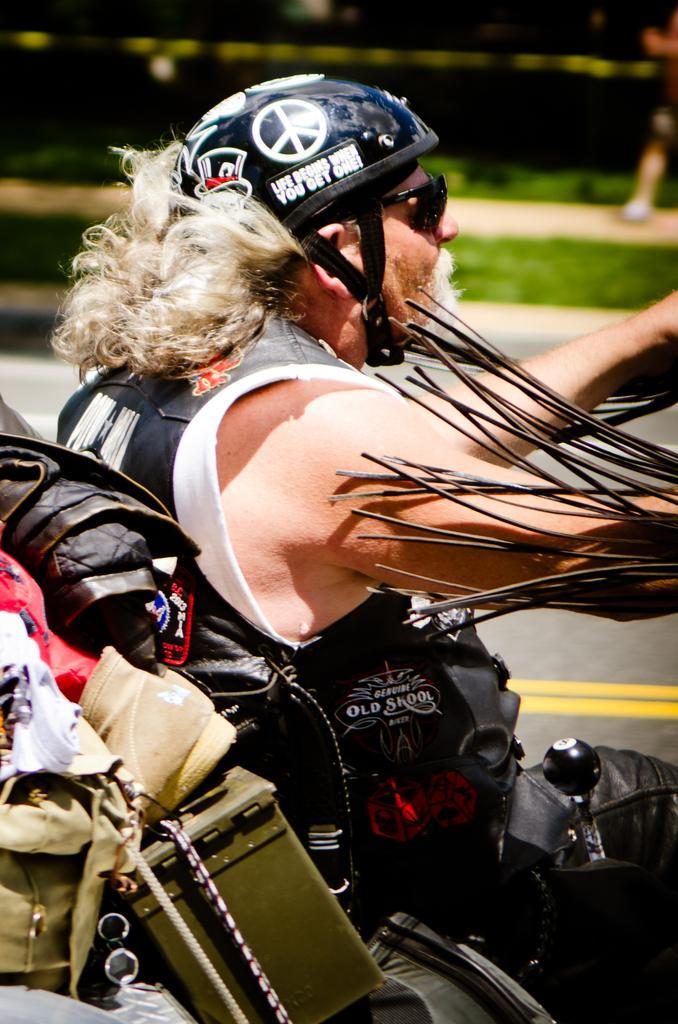helmet: (164, 70, 463, 372)
